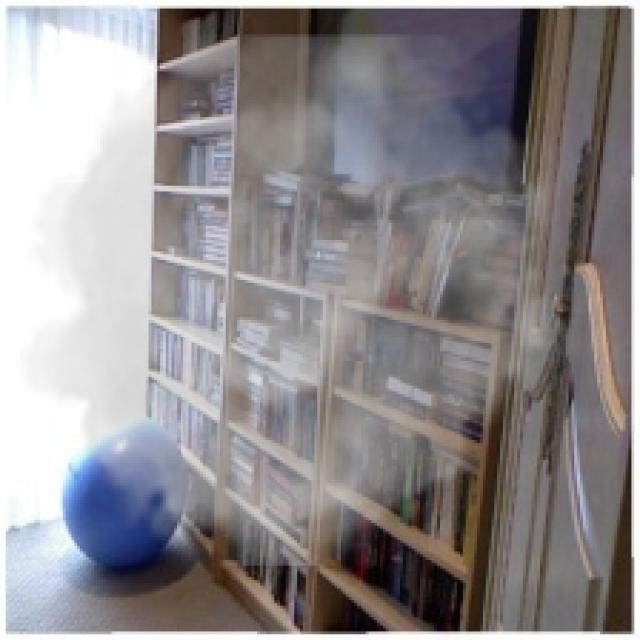smoke: (20, 34, 583, 566)
